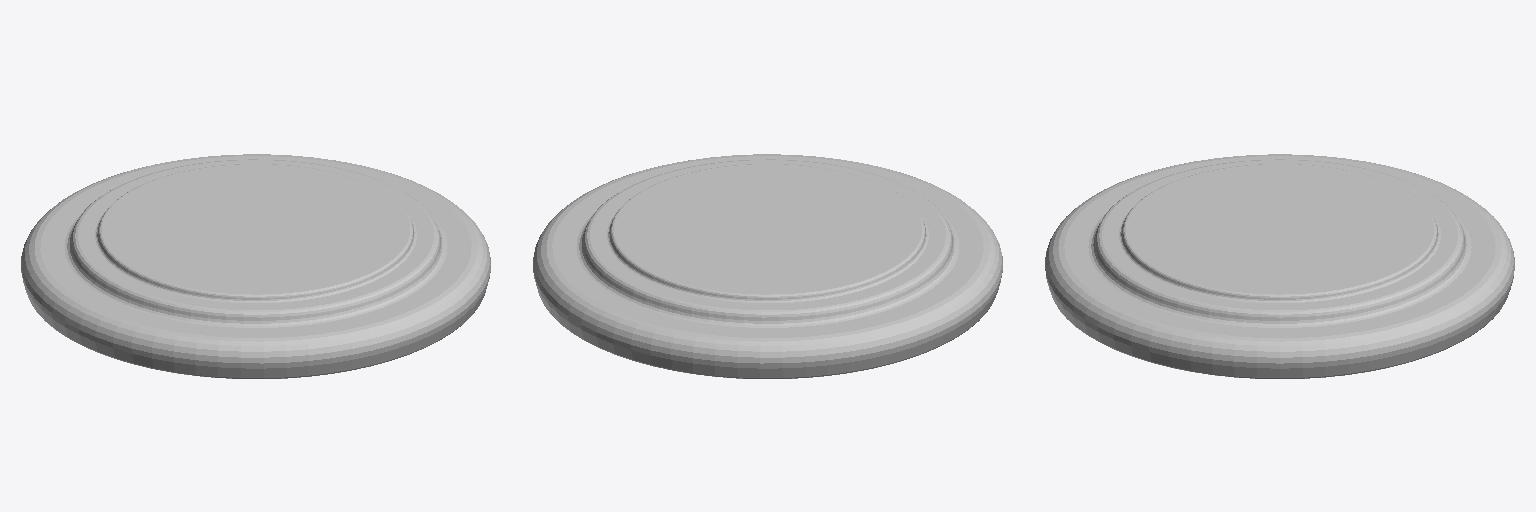
The model's file is frizbee.obj.
3 renders of one model, left to right at view 1: azimuth 30°, elevation 25°; view 2: azimuth 150°, elevation 25°; view 3: azimuth 270°, elevation 25°, orthographic.
Parts seen in each view (by area): view 1: frisbee; view 2: frisbee; view 3: frisbee.
Boxes of the visible parts, box(x1,y1,x2,y2) form: frisbee: box(21, 154, 490, 378); frisbee: box(533, 154, 1002, 378); frisbee: box(1045, 154, 1514, 378).
Size of the model in its own units: 0.7589 by 0.0949 by 0.7589.